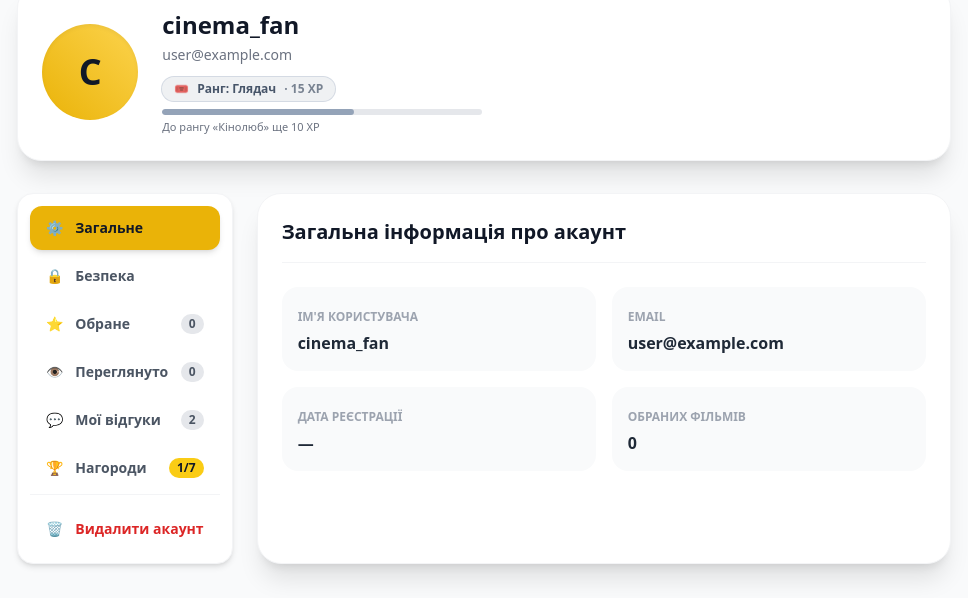
Test: UserProfile › lists my real reviews from the API
Step 1. Click the button "💬 Мої відгуки 2" → (125, 420), box [30, 398, 220, 442]
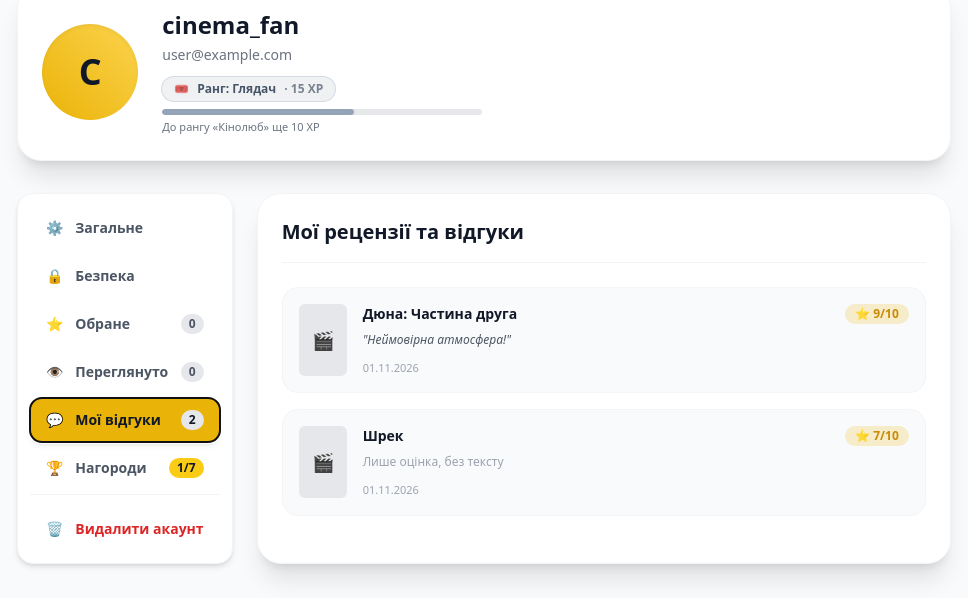
Expected: the button "Дюна: Частина друга" is shown, [363, 304, 517, 324]
Expected: the text "\"Неймовірна атмосфера!\"" is shown, [363, 330, 511, 348]
Expected: the text "Лише оцінка, без тексту" is shown, [363, 453, 504, 470]
